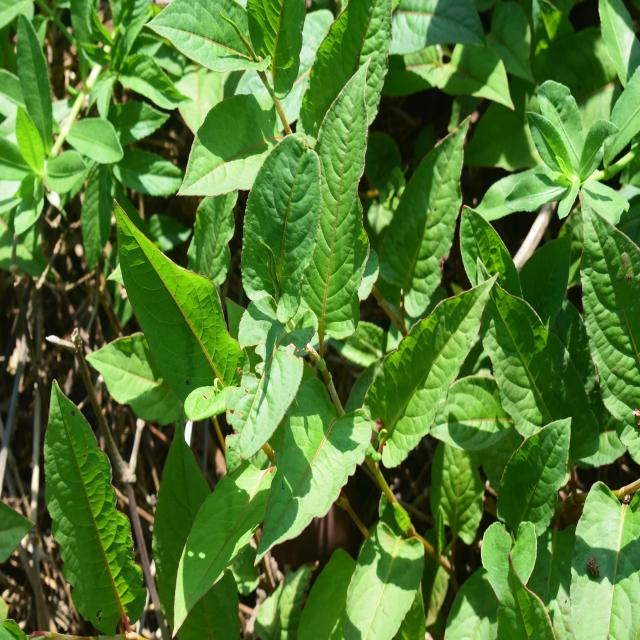Chinese_knotweed: (235, 70, 472, 524)
